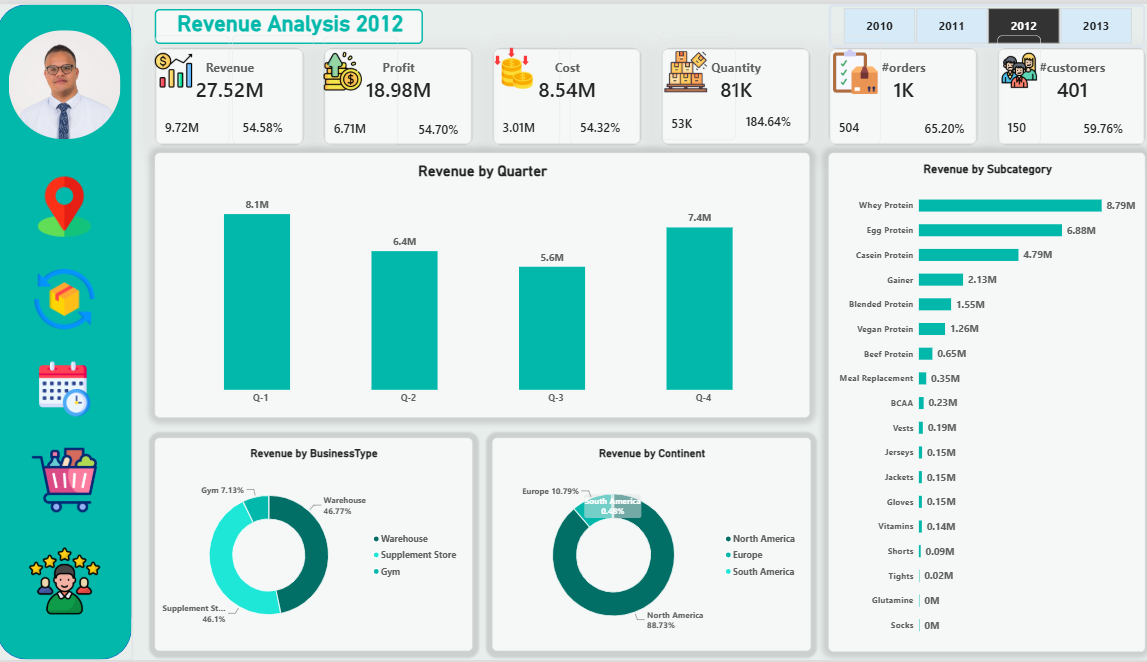

Layout of this report page (visuals, bound fields, positions):
{"tool":"powerbi","page":{"name":"Main Page","canvas":[1920,1080],"ordinal":0},"visuals":[{"type":"shape","box":[0,0,224.4,1080.6],"z":0},{"type":"cardVisual","fields":{"Data":["Calculations.Revenue"]},"box":[262.4,72.4,246.1,161.1],"z":1000},{"type":"cardVisual","fields":{"Data":["Calculations.Cost"]},"box":[816.9,72.4,246.1,161.1],"z":2000},{"type":"cardVisual","fields":{"Data":["Calculations.Quantity"]},"box":[1094.8,72.4,246.1,161.1],"z":3000},{"type":"cardVisual","fields":{"Data":["Calculations.#customers"]},"box":[1648.6,72.4,246.1,161.1],"z":4000},{"type":"cardVisual","fields":{"Data":["Calculations.#orders"]},"box":[1371.7,72.4,246.1,161.1],"z":5000},{"type":"cardVisual","fields":{"Data":["Calculations.Profit"]},"box":[539.6,72.4,246.1,161.1],"z":6000},{"type":"columnChart","fields":{"Category":["Calendar.Quarter"],"Y":["Calculations.Revenue"]},"box":[262.4,244.3,1078.6,436.1],"z":7000},{"type":"barChart","title":"Revenue by Subcategory","fields":{"Category":["D_Product.SubcategoryName"],"Y":["Calculations.Revenue"]},"box":[1371.7,244.3,523,821.6],"z":8000},{"type":"donutChart","fields":{"Category":["D_Customers.BusinessType"],"Y":["Calculations.Revenue"]},"box":[262.4,714.8,523,351.1],"z":9000},{"type":"donutChart","fields":{"Category":["D_Customers.Continent"],"Y":["Calculations.Revenue"]},"box":[816.2,714.8,524.8,351.1],"z":10000},{"type":"slicer","fields":{"Values":["Calendar.Year"]},"box":[1371.7,0,523,72.4],"z":11000},{"type":"textbox","box":[262.4,7.2,441.6,57.9],"z":12000},{"type":"image","box":[19.9,43.4,184.6,179.2],"z":13000},{"type":"image","box":[48.9,284.1,126.7,99.5],"z":14000},{"type":"image","box":[48.9,436.1,126.7,99.5],"z":15000},{"type":"image","box":[48.9,588.1,126.7,90.5],"z":16000},{"type":"image","box":[48.9,731.1,126.7,106.8],"z":17000},{"type":"image","box":[48.9,890.4,126.7,117.6],"z":18000},{"type":"cardVisual","fields":{"Data":["Var Measures.Revenue Variance"]},"box":[262.4,50.7,123.1,179.2],"z":19000},{"type":"cardVisual","fields":{"Data":["Var Measures.Revenue Variance%"]},"box":[389.1,50.7,135.7,179.2],"z":20000},{"type":"cardVisual","fields":{"Data":["Var Measures.Profit Variance"]},"box":[539.3,54.3,123.1,179.2],"z":21000},{"type":"cardVisual","fields":{"Data":["Var Measures.Profit Variance%"]},"box":[678.6,56.1,153.8,179.2],"z":22000},{"type":"cardVisual","fields":{"Data":["Var Measures.Cost Variance%"]},"box":[944.6,50.7,150.2,179.2],"z":23000},{"type":"cardVisual","fields":{"Data":["Var Measures.Cost Variance"]},"box":[816.2,50.7,112.2,179.2],"z":24000},{"type":"cardVisual","fields":{"Data":["Var Measures.Quantity Variance"]},"box":[1094.8,45.2,123.1,179.2],"z":25000},{"type":"cardVisual","fields":{"Data":["Var Measures.Quantity Variance%"]},"box":[1217.9,43.4,126.7,179.2],"z":26000},{"type":"cardVisual","fields":{"Data":["Var Measures.#Orders Variance"]},"box":[1371.7,52.5,86.9,179.2],"z":27000},{"type":"cardVisual","fields":{"Data":["Var Measures.#Orders Variance%"]},"box":[1512.9,54.3,135.7,179.2],"z":28000},{"type":"cardVisual","fields":{"Data":["Var Measures.#Customers Variance%"]},"box":[1775.3,54.3,119.4,179.2],"z":29000},{"type":"cardVisual","fields":{"Data":["Var Measures.#Customers Variance"]},"box":[1648.6,50.7,72.4,179.2],"z":30000},{"type":"image","box":[262.4,63.3,61.5,90.5],"z":31000},{"type":"image","box":[539.3,56.1,63.3,110.4],"z":32000},{"type":"image","box":[816.2,70.6,70.6,72.4],"z":33000},{"type":"image","box":[1094.8,76,81.4,70.6],"z":34000},{"type":"image","box":[1655.8,57.9,59.7,103.2],"z":35000},{"type":"image","box":[1377.2,57.9,76,108.6],"z":36000}]}

Visuals, with their boxes in screenshot pixels (x1, y1, x2, y2), scaled from the page's 1920x1080 canvas onto the 1147x662 screenshot:
shape: (0, 0, 134, 661)
cardVisual - Calculations.Revenue: (157, 44, 304, 143)
cardVisual - Calculations.Cost: (488, 44, 635, 143)
cardVisual - Calculations.Quantity: (654, 44, 801, 143)
cardVisual - Calculations.#customers: (985, 44, 1132, 143)
cardVisual - Calculations.#orders: (819, 44, 966, 143)
cardVisual - Calculations.Profit: (322, 44, 469, 143)
columnChart - Calendar.Quarter x Calculations.Revenue: (157, 150, 801, 417)
"Revenue by Subcategory" barChart: (819, 150, 1132, 653)
donutChart - D_Customers.BusinessType x Calculations.Revenue: (157, 438, 469, 653)
donutChart - D_Customers.Continent x Calculations.Revenue: (488, 438, 801, 653)
slicer - Calendar.Year: (819, 0, 1132, 44)
textbox: (157, 4, 421, 40)
image: (12, 27, 122, 136)
image: (29, 174, 105, 235)
image: (29, 267, 105, 328)
image: (29, 360, 105, 416)
image: (29, 448, 105, 514)
image: (29, 546, 105, 618)
cardVisual - Var Measures.Revenue Variance: (157, 31, 230, 141)
cardVisual - Var Measures.Revenue Variance%: (232, 31, 314, 141)
cardVisual - Var Measures.Profit Variance: (322, 33, 396, 143)
cardVisual - Var Measures.Profit Variance%: (405, 34, 497, 144)
cardVisual - Var Measures.Cost Variance%: (564, 31, 654, 141)
cardVisual - Var Measures.Cost Variance: (488, 31, 555, 141)
cardVisual - Var Measures.Quantity Variance: (654, 28, 728, 138)
cardVisual - Var Measures.Quantity Variance%: (728, 27, 803, 136)
cardVisual - Var Measures.#Orders Variance: (819, 32, 871, 142)
cardVisual - Var Measures.#Orders Variance%: (904, 33, 985, 143)
cardVisual - Var Measures.#Customers Variance%: (1061, 33, 1132, 143)
cardVisual - Var Measures.#Customers Variance: (985, 31, 1028, 141)
image: (157, 39, 193, 94)
image: (322, 34, 360, 102)
image: (488, 43, 530, 88)
image: (654, 47, 703, 90)
image: (989, 35, 1025, 99)
image: (823, 35, 868, 102)
